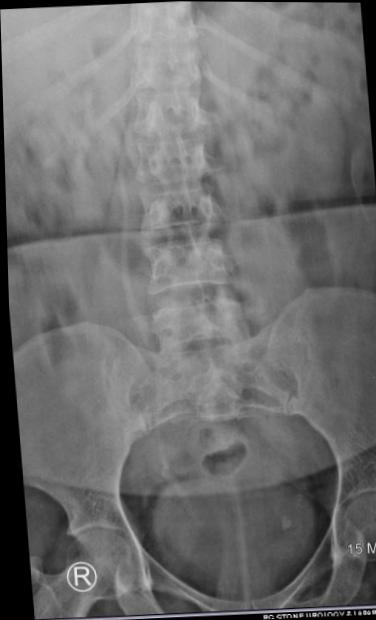vertebrae: (135, 87, 211, 141)
